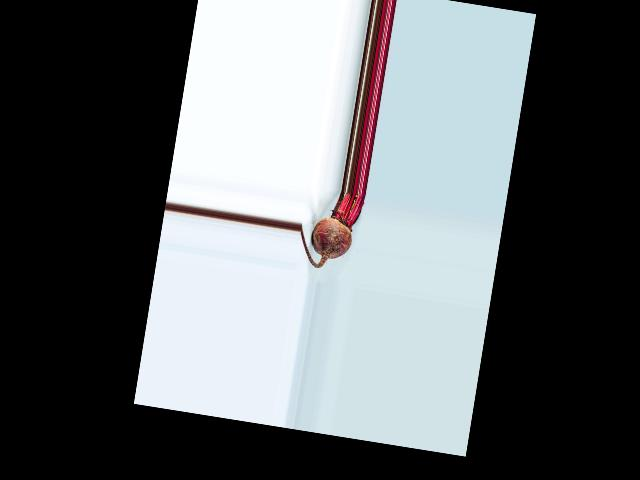beet: (295, 185, 365, 273)
